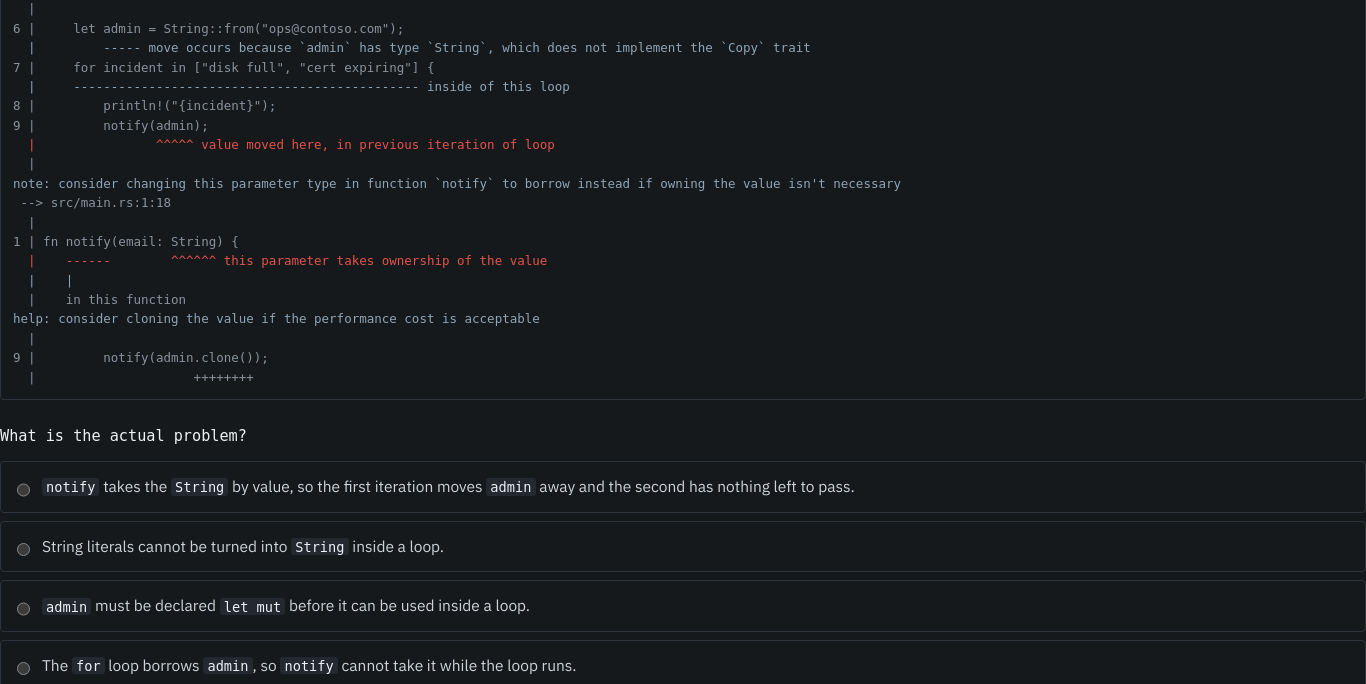
Test case: DrillCard › renders a real drill from the content
(page scrolled)
What coordinates should you click on to do the following:
click the 1st radio button
I would click on:
 (24, 490)
Its box is x1=17 y1=480 x2=30 y2=500.
(page scrolled)
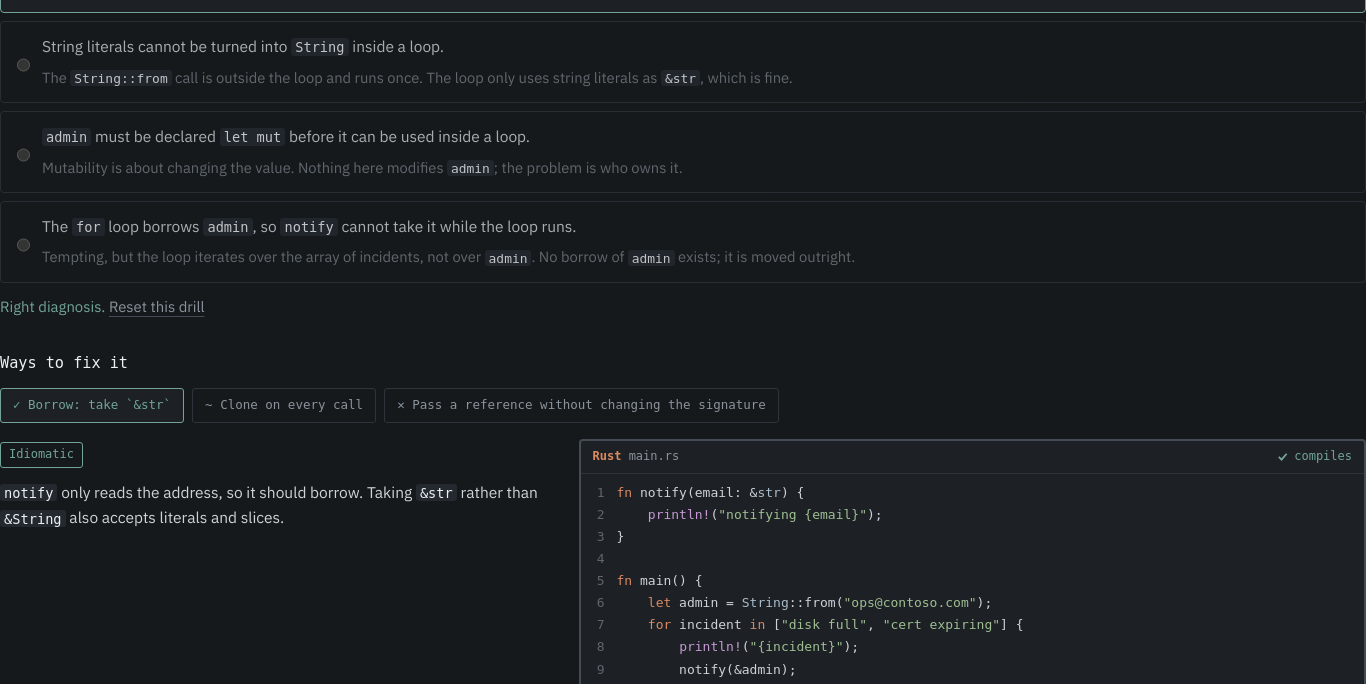
Expected: the message shows "Right diagnosis.", x1=0 y1=297 x2=105 y2=316
